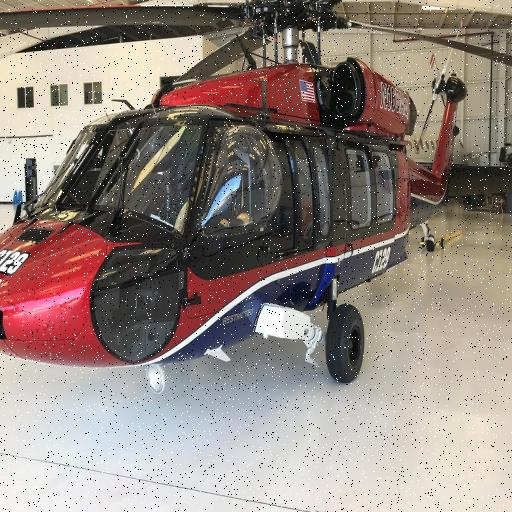helicopter: (1, 1, 512, 397)
